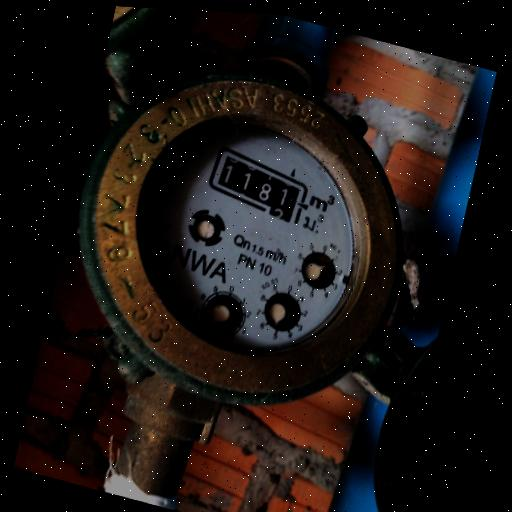1: (268, 180, 297, 222), (215, 153, 241, 190), (234, 163, 258, 197)
8: (252, 172, 278, 207)
border_water_meter_number: (200, 142, 318, 229)
